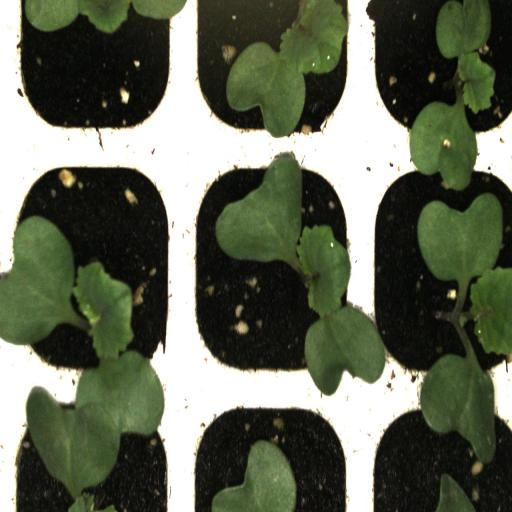seedling: (0, 153, 183, 394), (180, 155, 360, 396), (360, 155, 512, 398), (179, 0, 357, 156), (358, 1, 512, 155)
